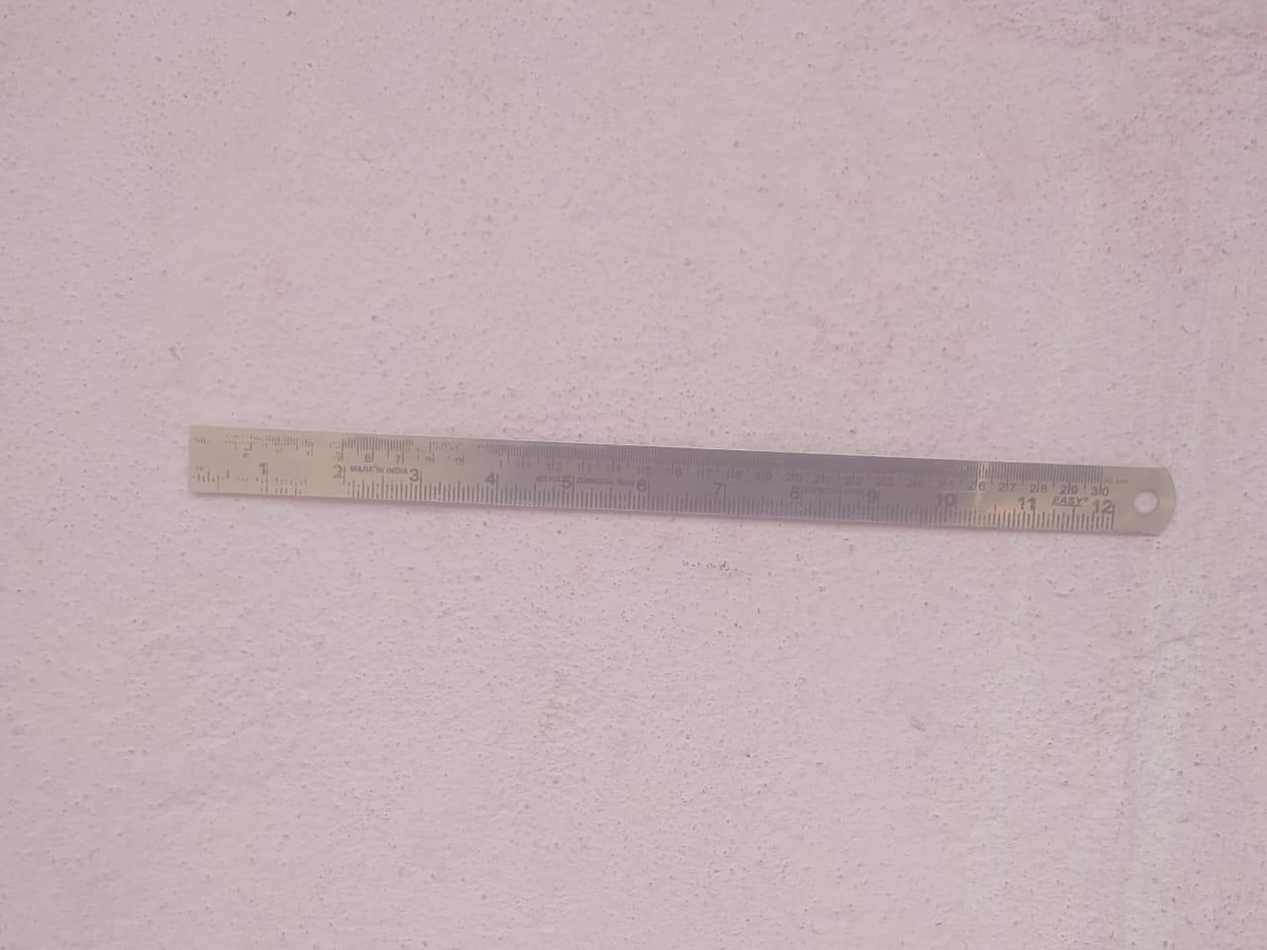scale: (198, 428, 1180, 533)
